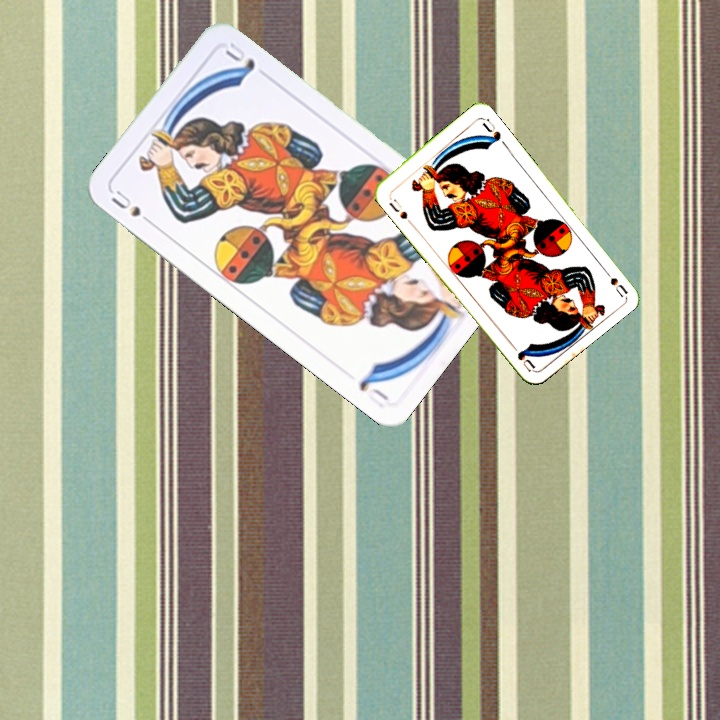SU: (107, 185, 158, 229), (598, 262, 629, 299), (385, 191, 414, 226)
